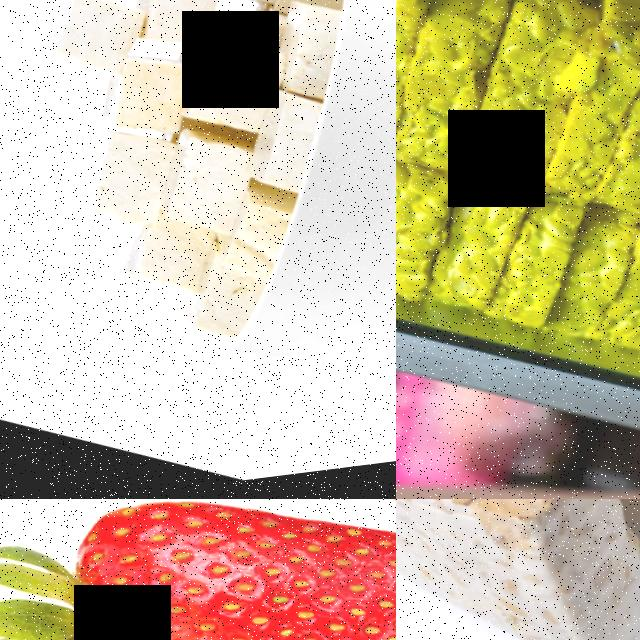strawberry: (2, 499, 396, 640), (66, 499, 396, 594)
tofu: (396, 499, 640, 640), (59, 118, 182, 245), (178, 21, 293, 154), (150, 130, 258, 249), (95, 42, 201, 154), (34, 0, 147, 92), (236, 94, 326, 208), (205, 186, 292, 292), (111, 228, 205, 308), (124, 0, 228, 47), (265, 0, 362, 26)
